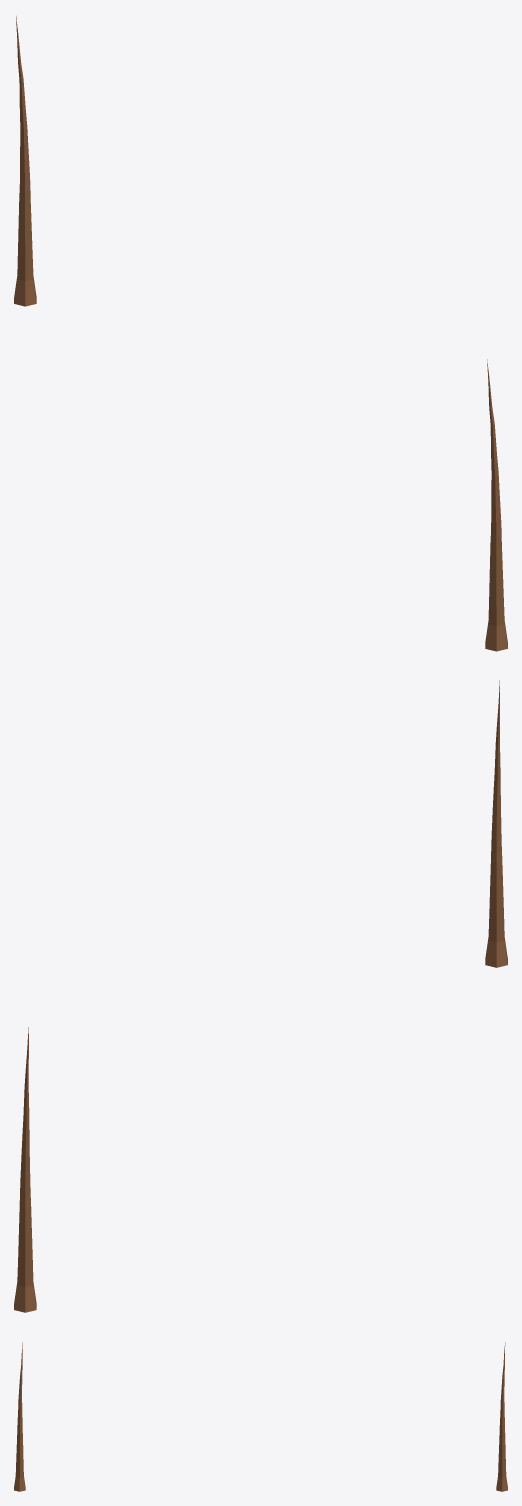
Rendered from tree-winter-complete-15-013.glb.
3 renders of one model, top to bottom at view 1: azimuth 30°, elevation 25°; view 2: azimuth 150°, elevation 25°; view 3: azimuth 270°, elevation 25°, orthographic. The views are drawn at different scales.
Visible parts, largest first — view 1: TREE 15.005_393, TREE 15.004_291; view 2: TREE 15.005_393, TREE 15.004_291; view 3: TREE 15.004_291, TREE 15.005_393.
Part boxes in pixels (x1,y1,x2,y2): TREE 15.005_393: (14, 16, 36, 306); TREE 15.004_291: (485, 359, 507, 651); TREE 15.005_393: (14, 1027, 36, 1312); TREE 15.004_291: (485, 680, 507, 967); TREE 15.004_291: (14, 1342, 25, 1491); TREE 15.005_393: (496, 1342, 507, 1491).
Bounding box in the file's own units: 0.1537 × 1.84 × 5.64.
